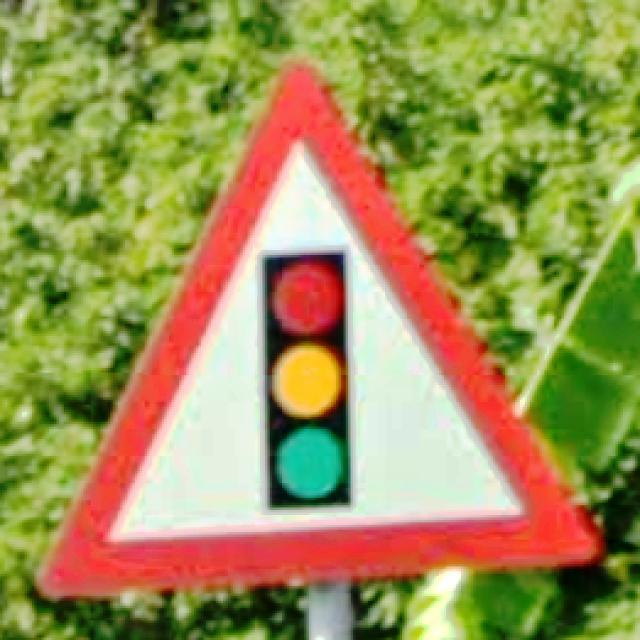signalahead: (37, 61, 603, 598)
